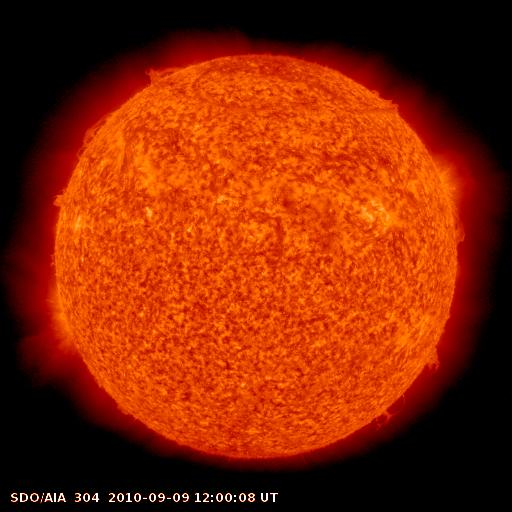prominence: (70, 104, 129, 163), (134, 56, 200, 90), (368, 389, 410, 436), (436, 204, 481, 245), (413, 337, 452, 379), (48, 179, 74, 216)
